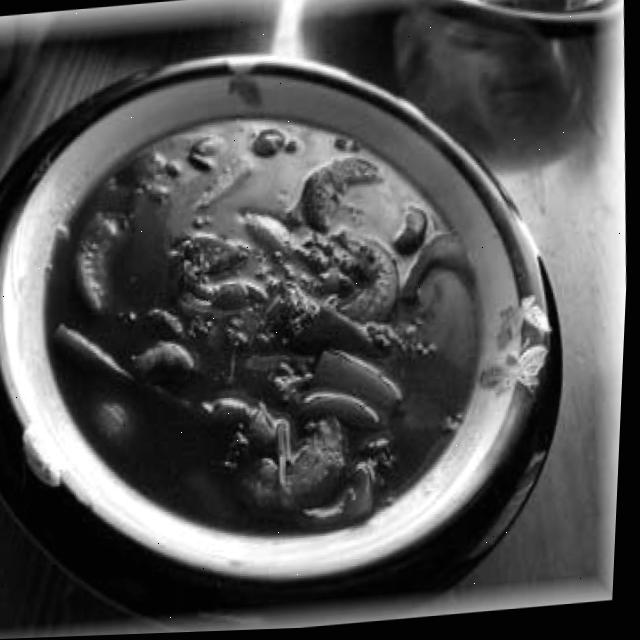汤锅炖物: (0, 17, 591, 632)
